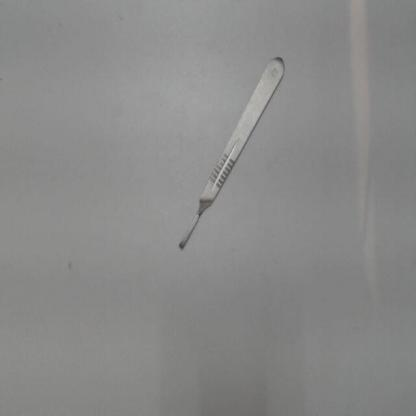No.4 BP Handle: (170, 48, 308, 264)
